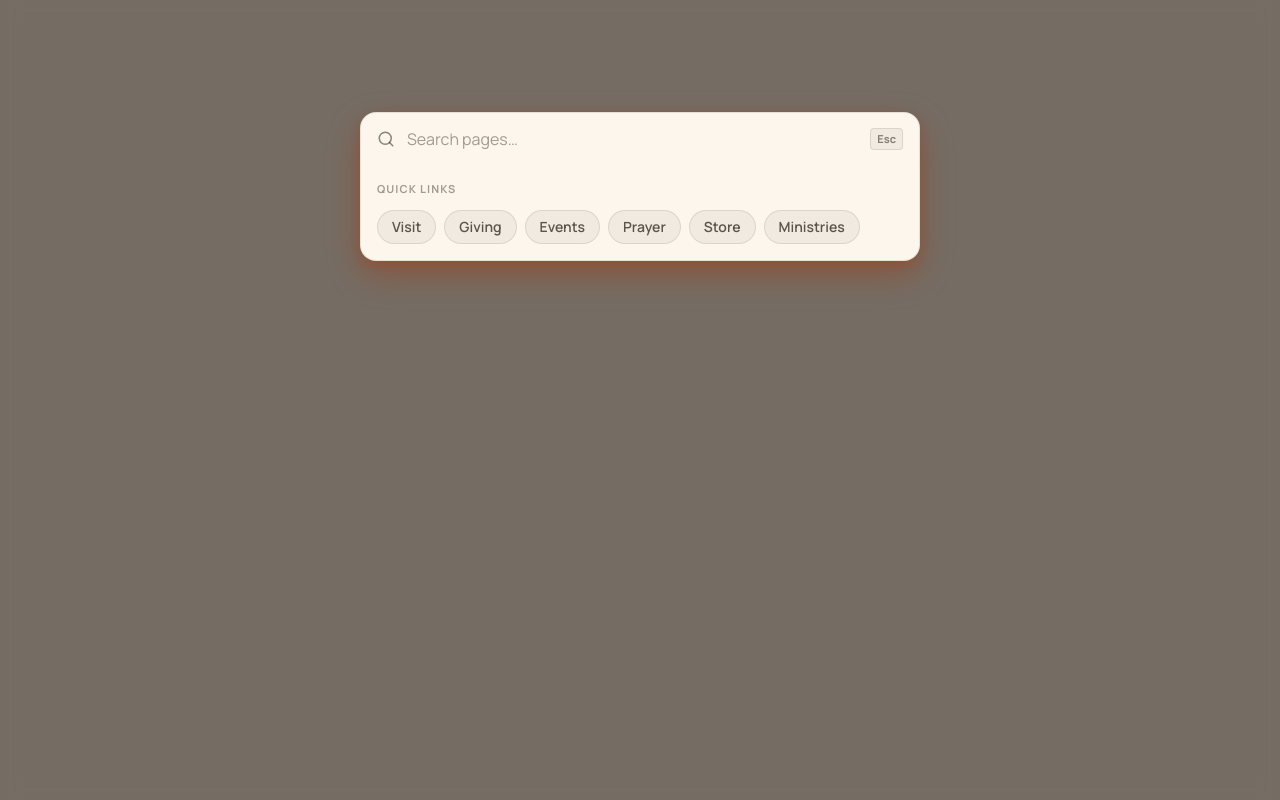
Scenario: SearchModal › shows a no-results state for a query that matches nothing
This screenshot has width=1280, height=800.
In the field named "Search the site": (633, 139) [407,127,858,151], type "zzzznotarealpage"
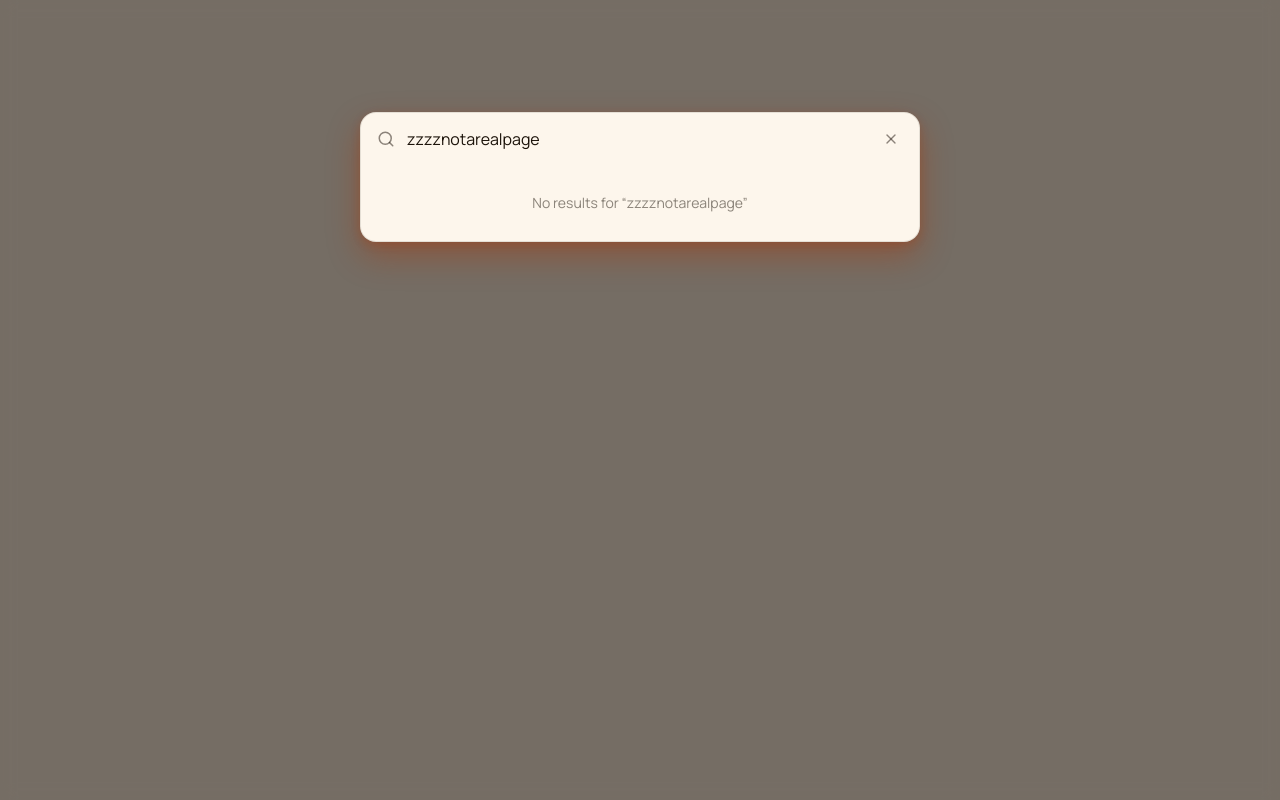
Result: the text "No results for “zzzznotarealpage”" is shown at [532,193,748,212]
